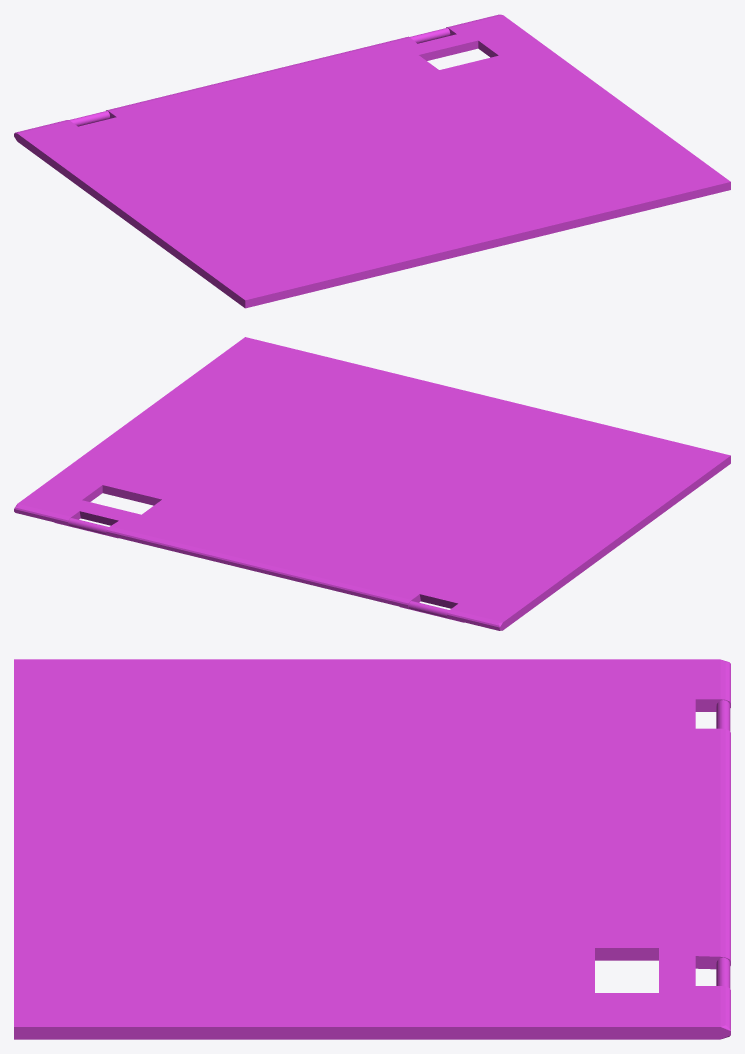
Rendered from tutup_kotak.glb.
3 renders of one model, top to bottom at view 1: azimuth 30°, elevation 25°; view 2: azimuth 150°, elevation 25°; view 3: azimuth 270°, elevation 25°, orthographic. The views are drawn at different scales.
Parts seen in each view (by area): view 1: Tutup; view 2: Tutup; view 3: Tutup.
Part boxes in pixels (box(x1,y1,x2,y2)): Tutup: box(14, 14, 730, 308); Tutup: box(14, 337, 730, 630); Tutup: box(14, 659, 730, 1039).
Size of the model in its own units: 0.2036 by 0.00344 by 0.1679.
